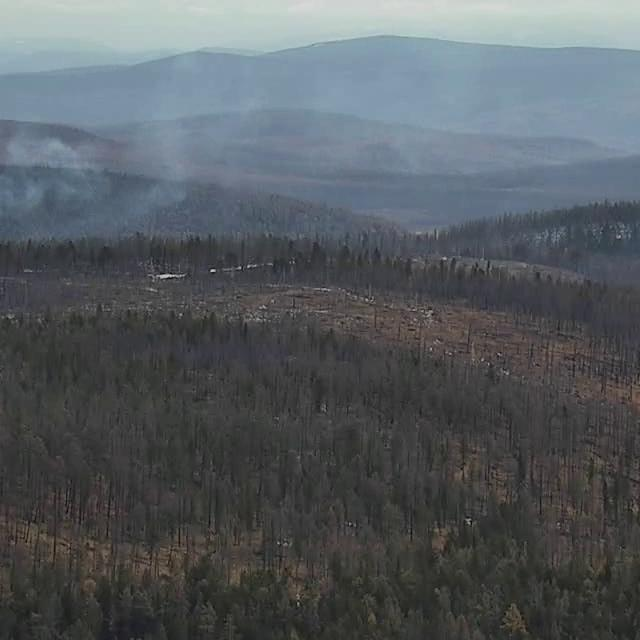Smoke: (1, 57, 639, 289)
